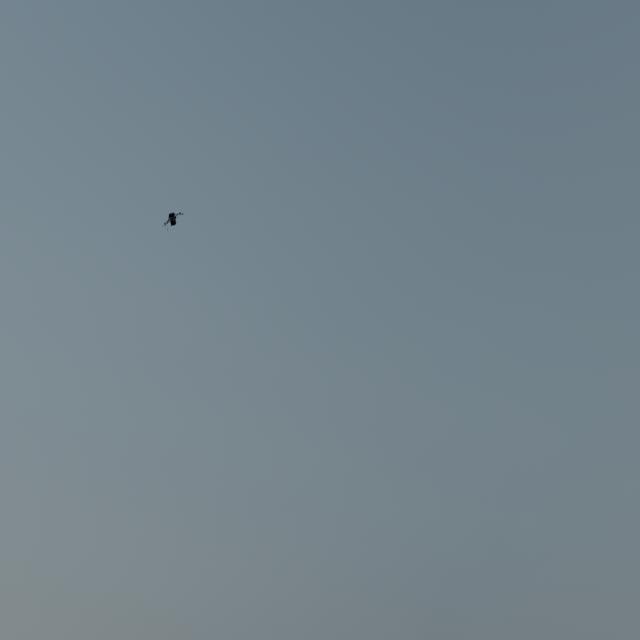drone: (162, 212, 184, 231)
